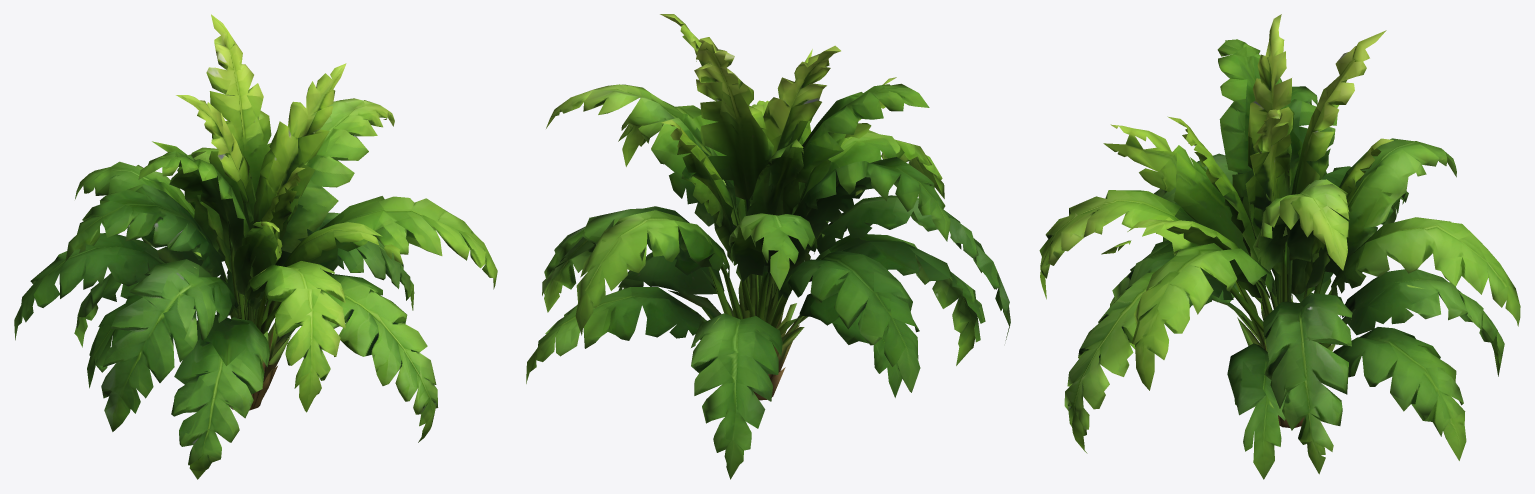
The model's file is Matorral_1_LOD0.glb.
3 views of the same model, side by side, from view 1: azimuth 30°, elevation 25°; view 2: azimuth 150°, elevation 25°; view 3: azimuth 270°, elevation 25° (orthographic). The views are drawn at different scales.
Parts seen in each view (by area): view 1: tripo_node_bbb65b58-1855-41e9-a174-85b17aae8ffe; view 2: tripo_node_bbb65b58-1855-41e9-a174-85b17aae8ffe; view 3: tripo_node_bbb65b58-1855-41e9-a174-85b17aae8ffe.
Part boxes in pixels (box(x1,y1,x2,y2)): tripo_node_bbb65b58-1855-41e9-a174-85b17aae8ffe: box(14, 14, 497, 479); tripo_node_bbb65b58-1855-41e9-a174-85b17aae8ffe: box(526, 14, 1010, 479); tripo_node_bbb65b58-1855-41e9-a174-85b17aae8ffe: box(1039, 14, 1520, 479).
Size of the model in its own units: 0.9965 by 0.9073 by 0.999.
1 material, 1 textured.
